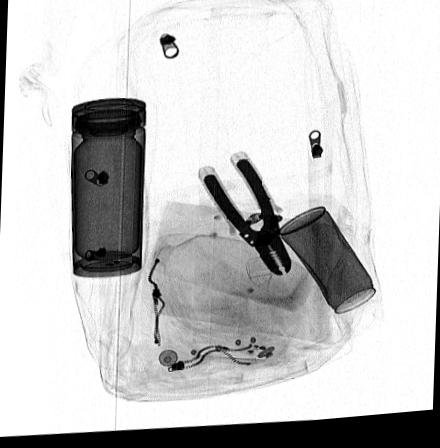Pliers: (200, 160, 292, 280)
